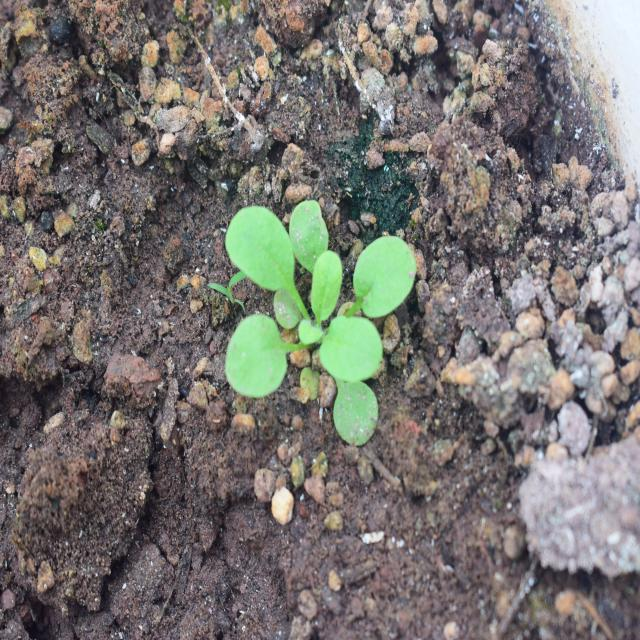Shepherd_Purse: (222, 192, 413, 455)
